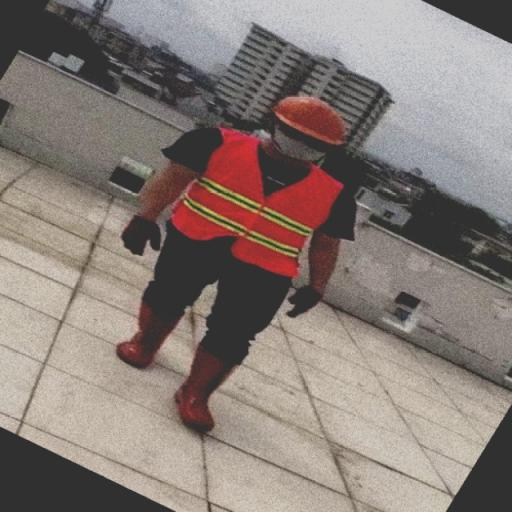Person: (115, 40, 371, 443)
boots: (161, 351, 245, 446), (112, 282, 188, 379)
gloves: (280, 266, 338, 328), (117, 207, 163, 262)
goggles: (272, 121, 353, 155)
helmet: (262, 82, 364, 138)
vest: (174, 124, 352, 280)
